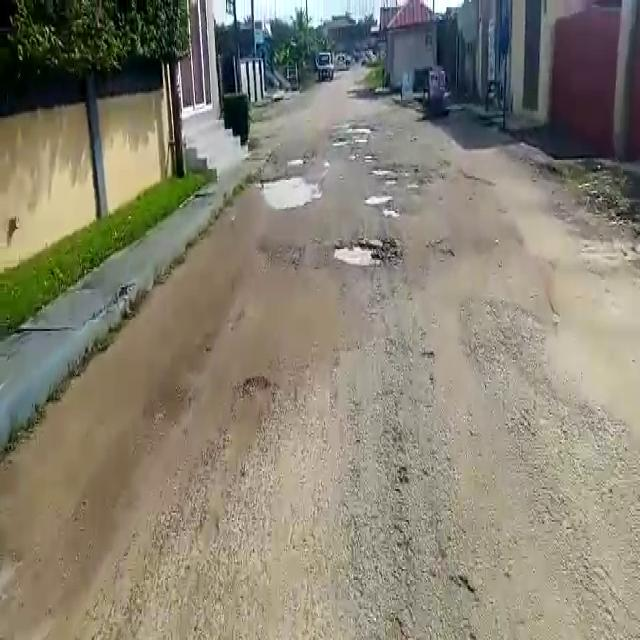Pothole: (257, 170, 318, 206), (332, 237, 396, 270), (364, 194, 397, 208), (369, 166, 401, 180)
